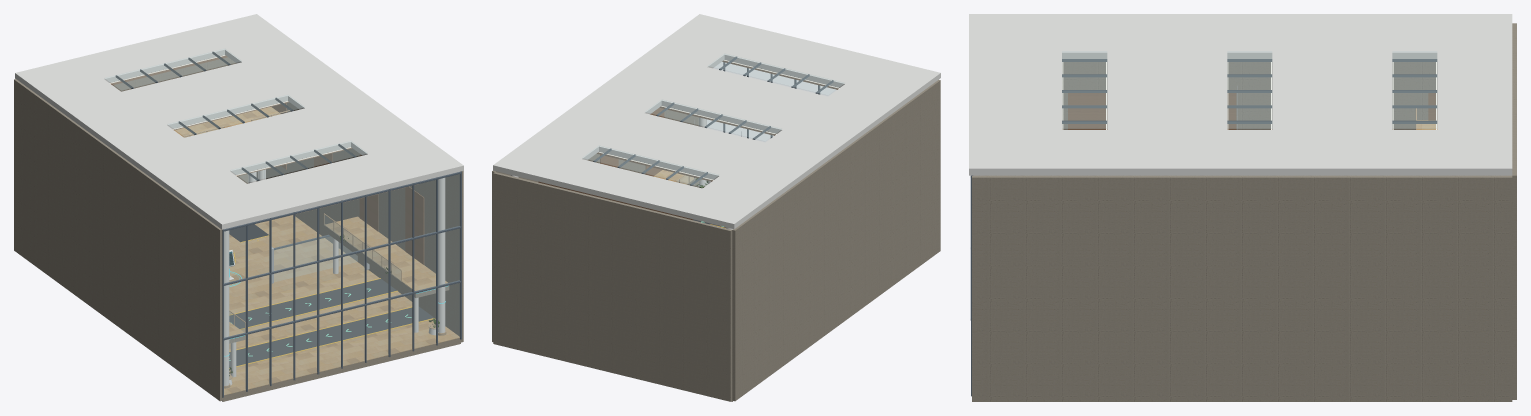
Rendered from world.glb.
3 renders of one model, left to right at view 1: azimuth 30°, elevation 25°; view 2: azimuth 150°, elevation 25°; view 3: azimuth 270°, elevation 25°, orthographic. The views are drawn at different scales.
Parts seen in each view (by area): view 1: LM_plaster, LM_concrete, GL_G_glass, LM_marble, LM_alu, LM_rubber, LM_white, LM_walnut, LM_yellow, LM_bronze, LM_dark; view 2: LM_concrete, LM_plaster, GL_G_glass, LM_walnut, LM_alu; view 3: LM_concrete, LM_plaster, GL_G_glass, LM_alu, LM_walnut, EM_E_light.
Part boxes in pixels (<box>): LM_plaster: <box>15,14,463,229</box>; LM_concrete: <box>14,57,463,401</box>; GL_G_glass: <box>104,49,459,394</box>; LM_marble: <box>174,107,459,395</box>; LM_alu: <box>115,52,461,397</box>; LM_rubber: <box>229,279,433,367</box>; LM_white: <box>224,169,445,385</box>; LM_walnut: <box>110,55,424,264</box>; LM_yellow: <box>229,235,434,368</box>; LM_bronze: <box>182,110,446,388</box>; LM_dark: <box>229,224,268,241</box>; LM_concrete: <box>492,80,940,401</box>; LM_plaster: <box>493,14,940,229</box>; GL_G_glass: <box>582,53,844,187</box>; LM_walnut: <box>538,60,838,220</box>; LM_alu: <box>593,56,833,185</box>; LM_concrete: <box>972,23,1516,401</box>; LM_plaster: <box>969,14,1512,175</box>; GL_G_glass: <box>1062,51,1436,128</box>; LM_alu: <box>970,59,1437,396</box>; LM_walnut: <box>1068,93,1437,129</box>; EM_E_light: <box>1062,62,1436,129</box>.
Size of the model in its own units: 24.6 by 17.35 by 36.5.
23 materials, 7 textured.
